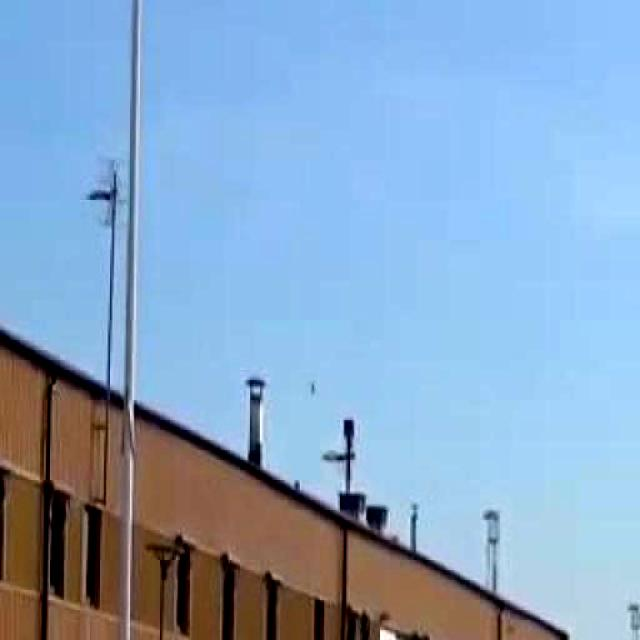drone: (296, 361, 340, 429)
